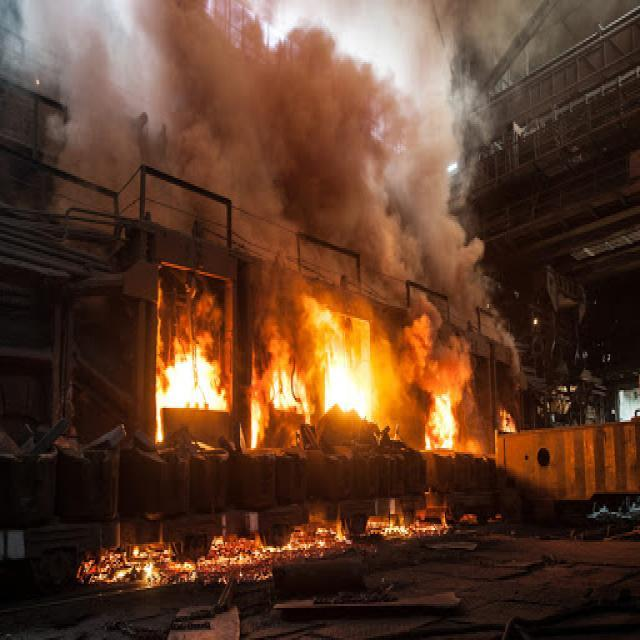Fire: (296, 287, 466, 462), (130, 288, 296, 454), (75, 526, 276, 604), (278, 494, 464, 570)
Smoke: (1, 0, 269, 265), (271, 18, 514, 284)
